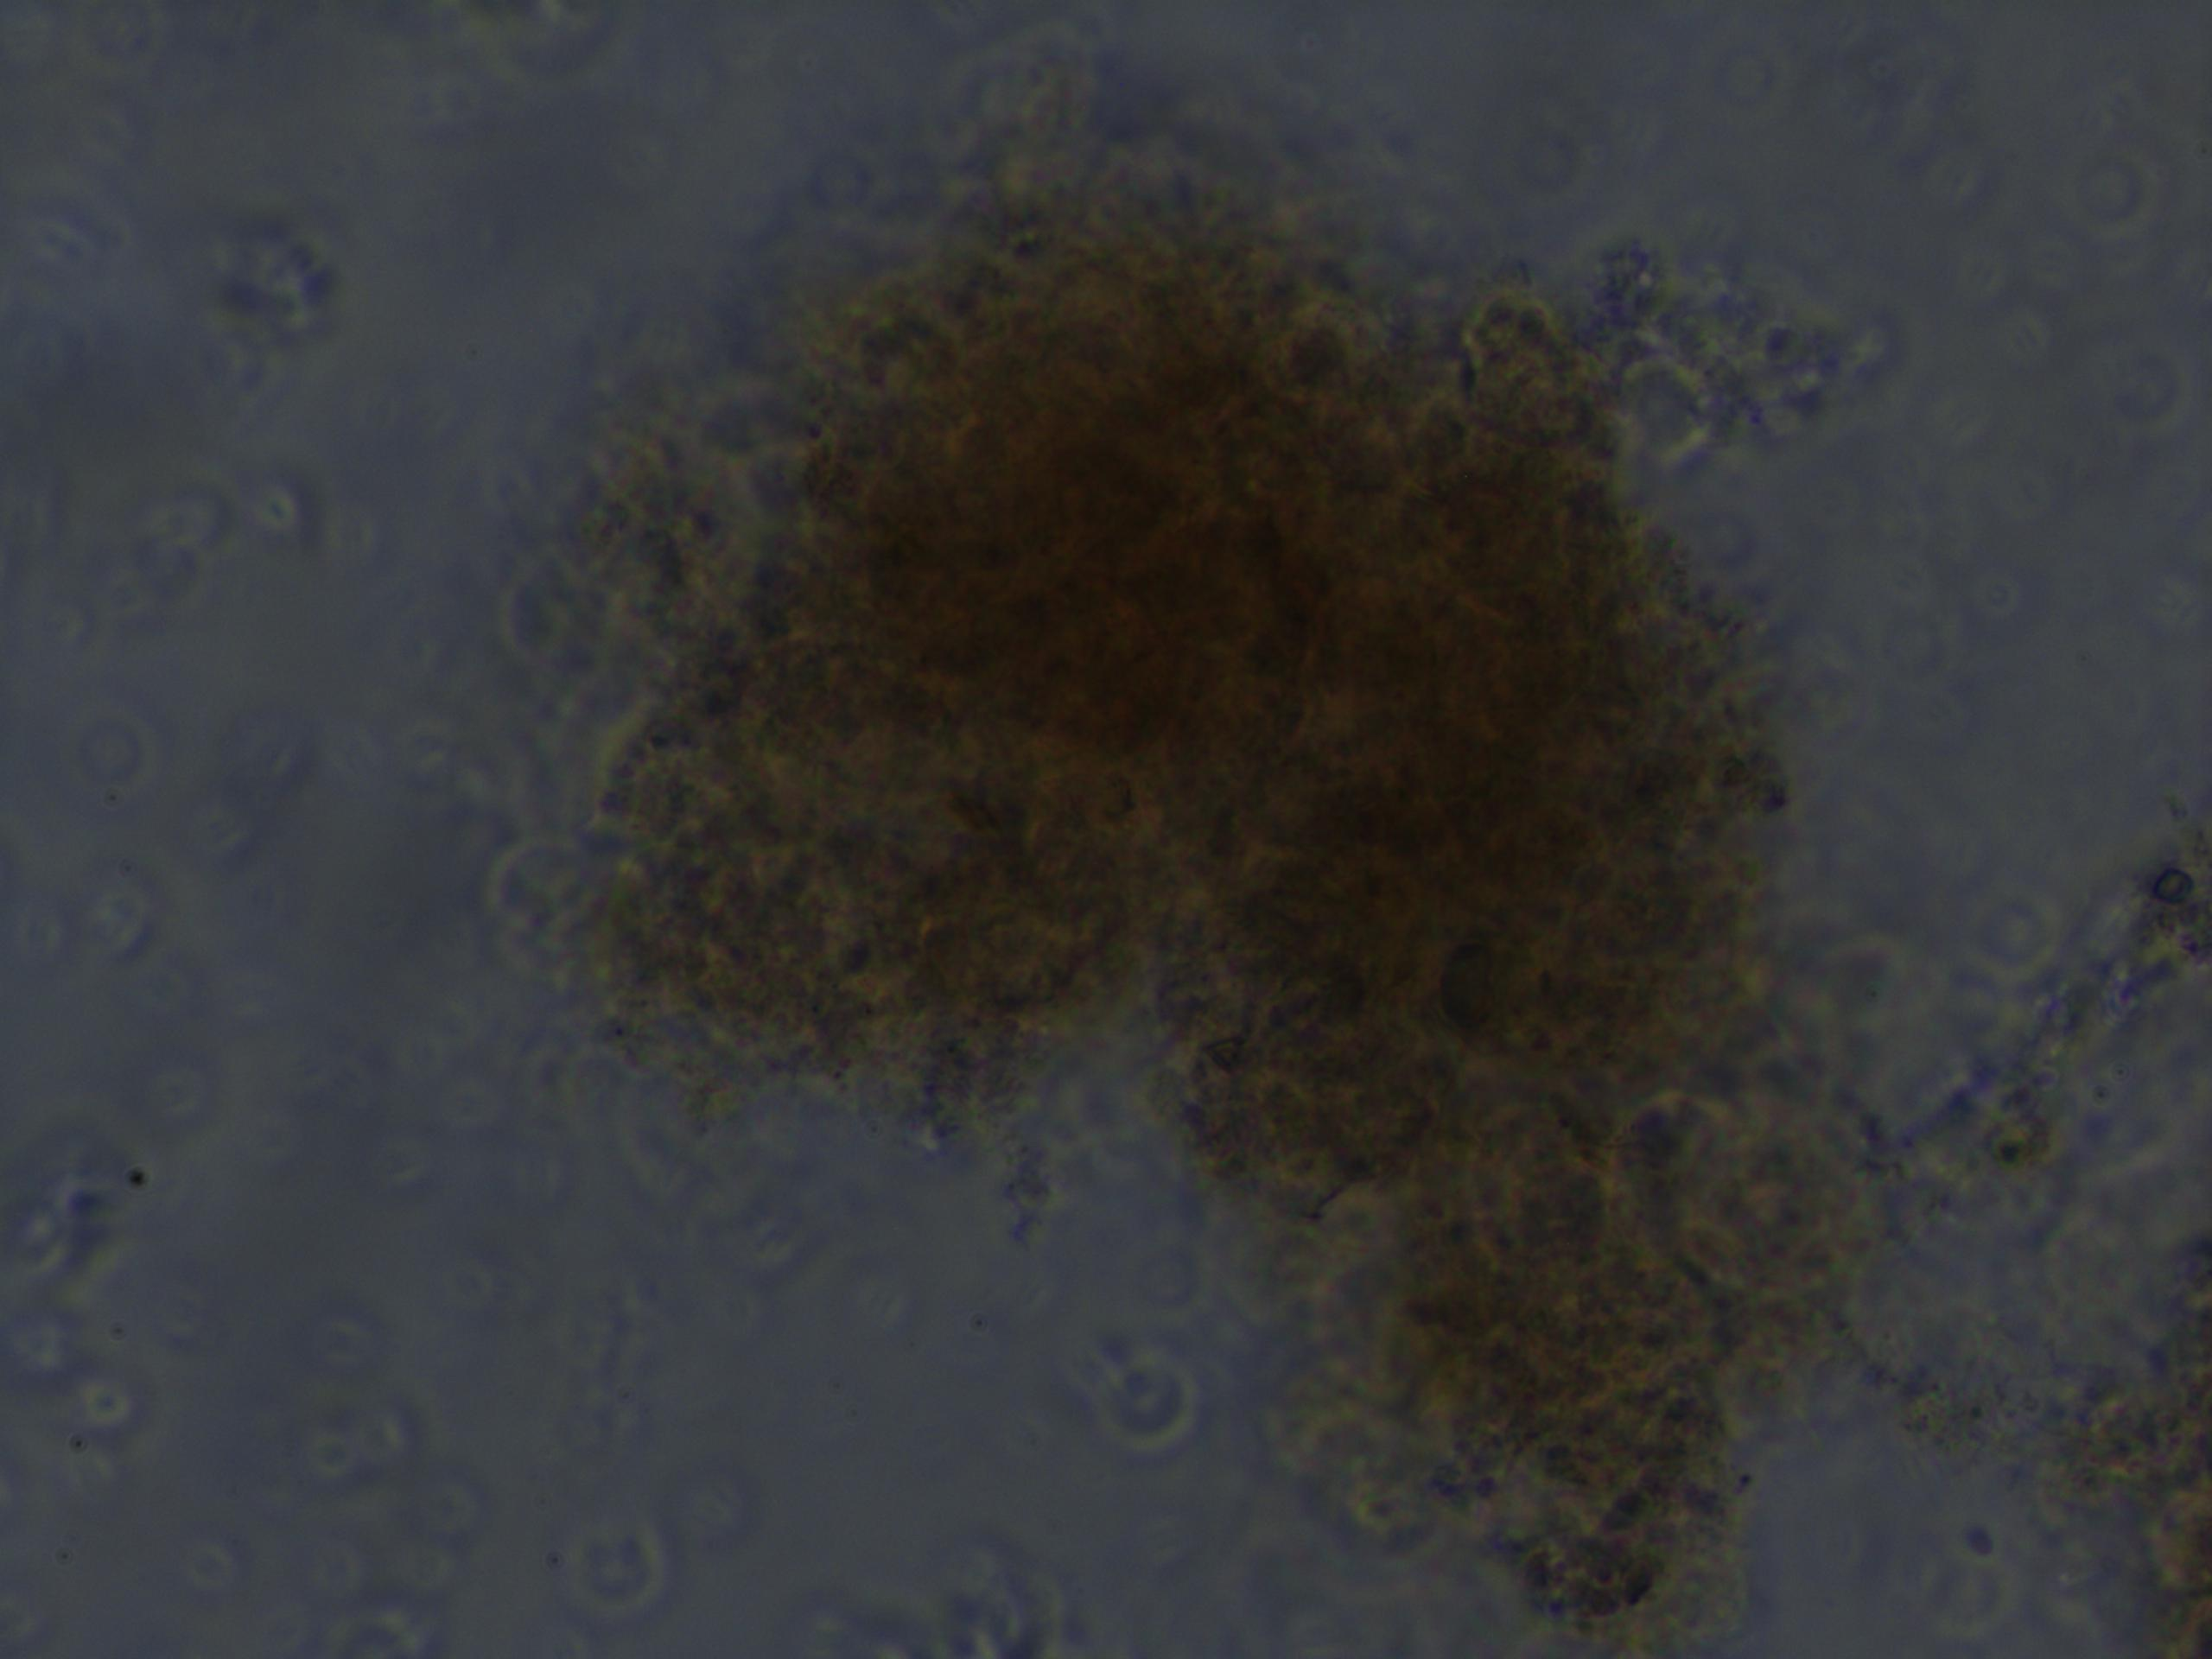spherical_floc: (577, 160, 1850, 1631)
